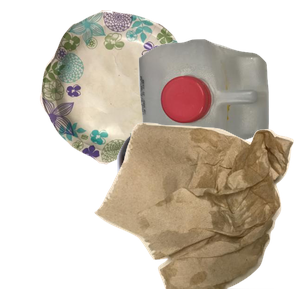glass: (115, 120, 300, 300)
paper: (37, 10, 219, 167)
plastic: (136, 37, 300, 188)
trash: (92, 120, 300, 300)
